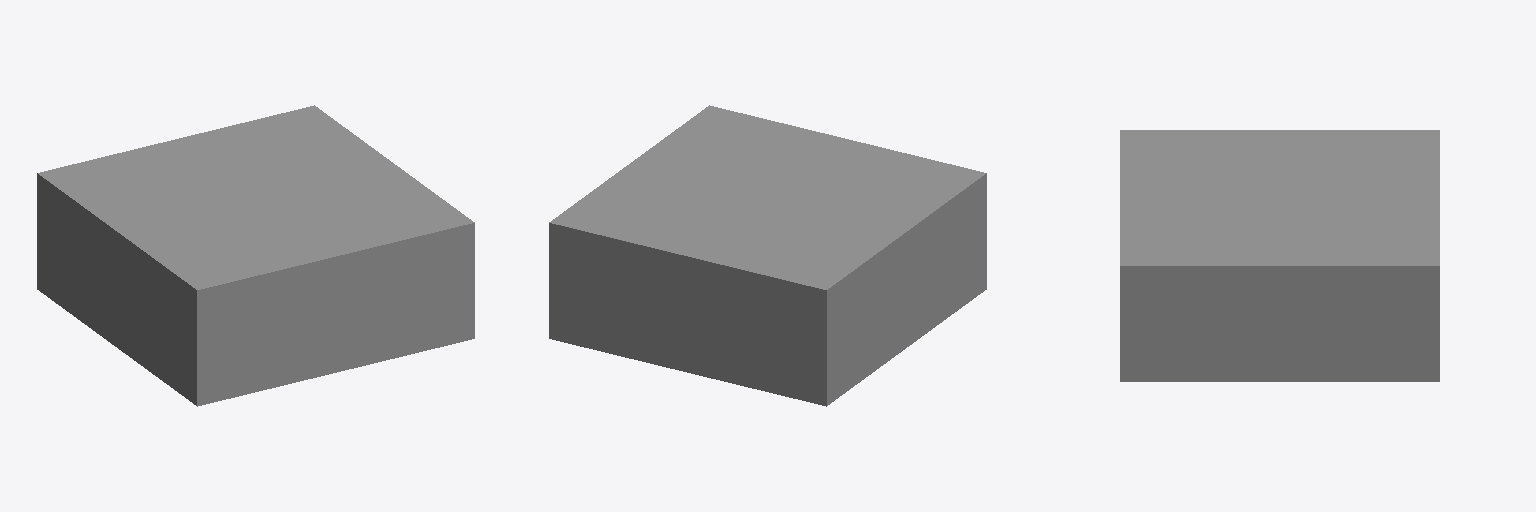
The model's file is Warehouse.obj.
3 views of the same model, side by side, from view 1: azimuth 30°, elevation 25°; view 2: azimuth 150°, elevation 25°; view 3: azimuth 270°, elevation 25° (orthographic).
Visible parts, largest first — view 1: Building_Plane; view 2: Building_Plane; view 3: Building_Plane.
Boxes of the visible parts, x1,y1,x2,y2 form: Building_Plane: [37, 105, 474, 406]; Building_Plane: [549, 105, 986, 406]; Building_Plane: [1120, 130, 1439, 381].
Size of the model in its own units: 10 by 4 by 10.